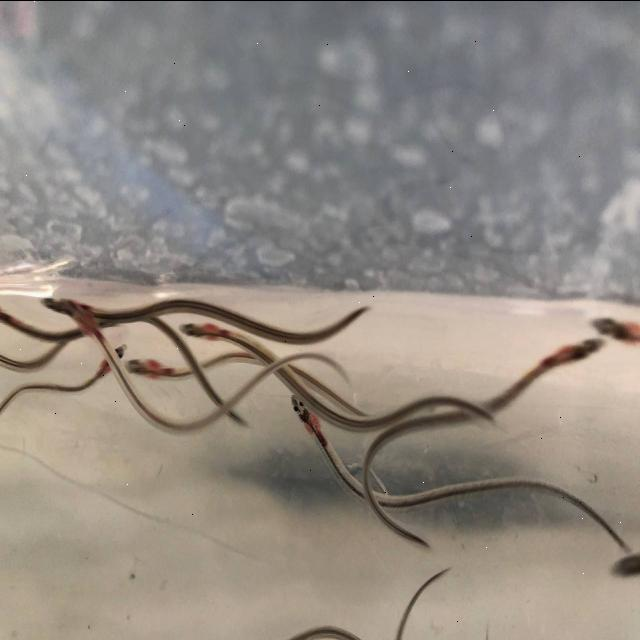glass_eel: (54, 285, 104, 342), (538, 334, 602, 376), (286, 392, 328, 454), (587, 304, 640, 350), (119, 344, 174, 386), (177, 312, 231, 352), (94, 334, 132, 380), (607, 534, 640, 582)
